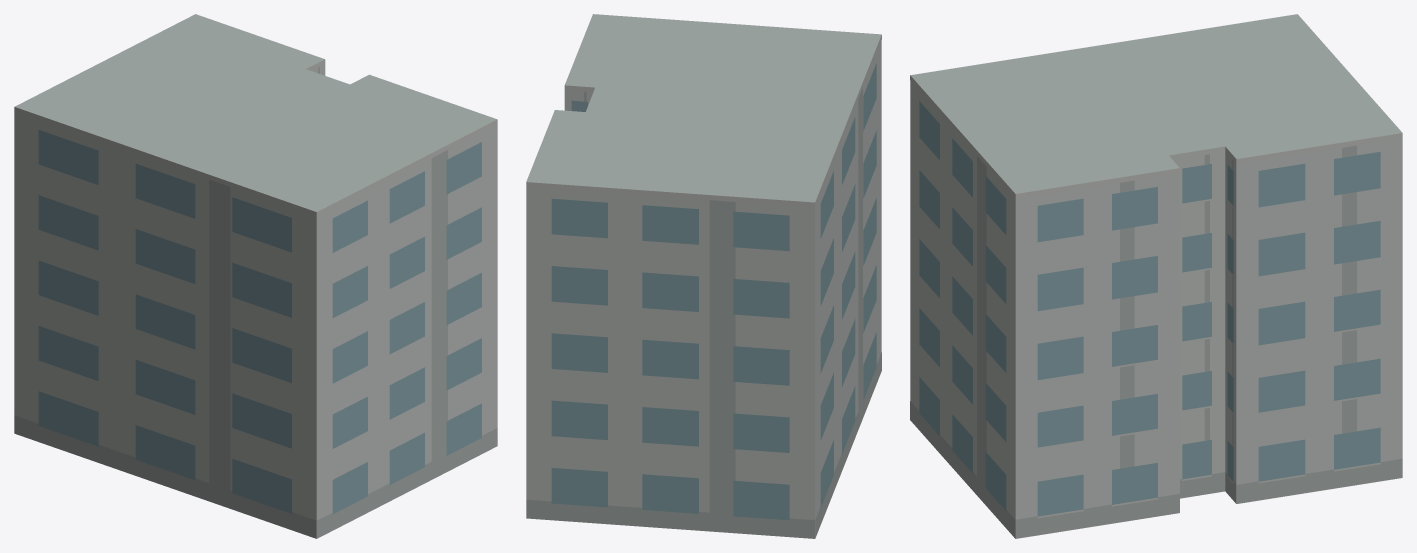
Rendered from survey-upis-32837834.glb.
3 views of the same model, side by side, from view 1: azimuth 30°, elevation 25°; view 2: azimuth 150°, elevation 25°; view 3: azimuth 270°, elevation 25° (orthographic). The views are drawn at different scales.
Parts seen in each view (by area): view 1: survey-upis-32837834.tmp; view 2: survey-upis-32837834.tmp; view 3: survey-upis-32837834.tmp.
Boxes of the visible parts, x1=… form: survey-upis-32837834.tmp: x1=14, y1=14, x2=497, y2=538; survey-upis-32837834.tmp: x1=526, y1=14, x2=881, y2=538; survey-upis-32837834.tmp: x1=910, y1=14, x2=1402, y2=538.
Bounding box in the file's own units: 17.81 × 15.9 × 20.59.
